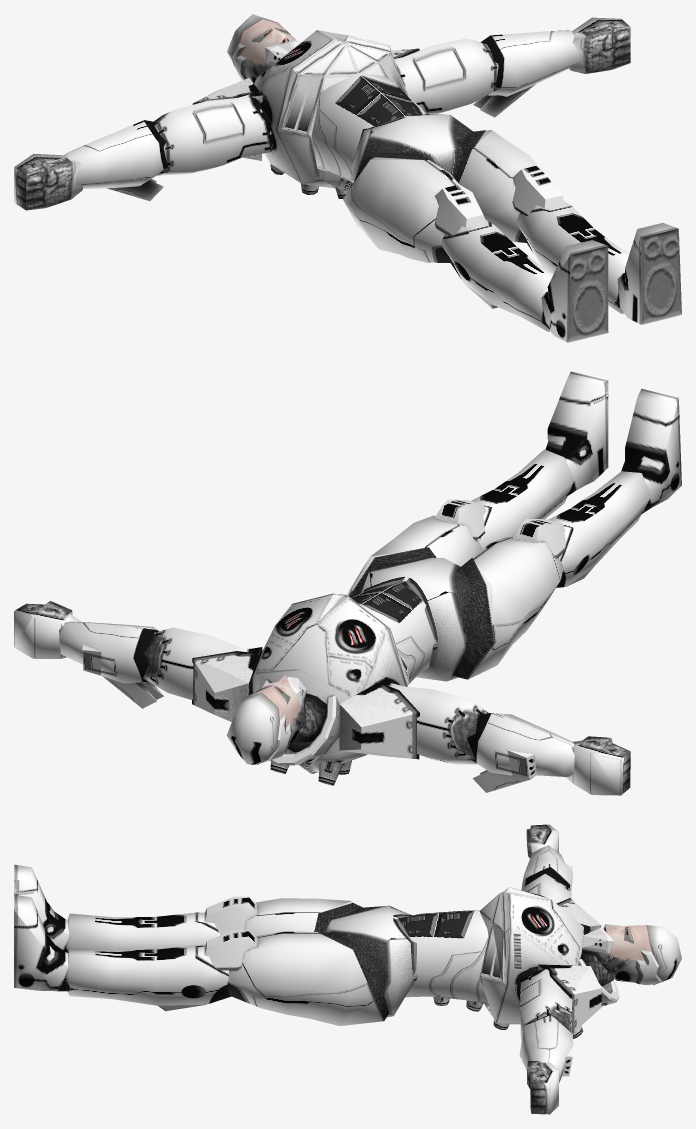
Rendered from typhoon.DAE.
3 renders of one model, top to bottom at view 1: azimuth 30°, elevation 25°; view 2: azimuth 150°, elevation 25°; view 3: azimuth 270°, elevation 25°, orthographic. The views are drawn at different scales.
Visible parts, largest first — view 1: chest_PIVOT, right_thigh_PIVOT, left_biceps02_PIVOT, right_thigh01_PIVOT, right_calf_PIVOT, mid_PIVOT, left_biceps_PIVOT, right_foot_PIVOT, left_wrist02_PIVOT, right_foot01_PIVOT, left_wrist_PIVOT, pelvis_PIVOT (+5 smaller); view 2: chest_PIVOT, right_thigh_PIVOT, left_wrist02_PIVOT, pelvis_PIVOT, right_calf_PIVOT, right_foot01_PIVOT, left_wrist_PIVOT, right_foot_PIVOT, right_thigh01_PIVOT, right_calf01_PIVOT, left_shoulder01_PIVOT, head_PIVOT (+7 smaller); view 3: right_thigh01_PIVOT, chest_PIVOT, right_calf01_PIVOT, mid_PIVOT, right_calf_PIVOT, head_PIVOT, pelvis_PIVOT, right_thigh_PIVOT, right_foot01_PIVOT, left_wrist_PIVOT, left_biceps_PIVOT, left_shoulder_PIVOT (+7 smaller).
Part boxes in pixels (<box>): chest_PIVOT: <box>254,30,408,198</box>; right_thigh_PIVOT: <box>342,151,486,262</box>; left_biceps02_PIVOT: <box>154,93,274,175</box>; right_thigh01_PIVOT: <box>454,130,565,242</box>; right_calf_PIVOT: <box>440,220,553,331</box>; mid_PIVOT: <box>311,73,425,183</box>; left_biceps_PIVOT: <box>394,38,499,114</box>; right_foot_PIVOT: <box>539,240,608,342</box>; left_wrist02_PIVOT: <box>64,120,167,201</box>; right_foot01_PIVOT: <box>614,223,681,324</box>; left_wrist_PIVOT: <box>473,30,580,117</box>; pelvis_PIVOT: <box>352,114,472,180</box>; chest_PIVOT: <box>252,593,408,785</box>; right_thigh_PIVOT: <box>452,518,565,679</box>; left_wrist02_PIVOT: <box>467,713,574,792</box>; pelvis_PIVOT: <box>361,557,473,681</box>; right_calf_PIVOT: <box>548,471,651,587</box>; right_foot01_PIVOT: <box>545,371,608,496</box>; left_wrist_PIVOT: <box>59,621,163,708</box>; right_foot_PIVOT: <box>621,388,681,514</box>; right_thigh01_PIVOT: <box>347,499,486,597</box>; right_calf01_PIVOT: <box>471,449,574,548</box>; left_shoulder01_PIVOT: <box>339,677,419,759</box>; head_PIVOT: <box>226,675,306,764</box>; right_thigh01_PIVOT: <box>204,930,389,1025</box>; chest_PIVOT: <box>479,887,619,1038</box>; right_calf01_PIVOT: <box>66,945,231,1011</box>; mid_PIVOT: <box>398,910,488,1011</box>; right_calf_PIVOT: <box>66,912,220,951</box>; head_PIVOT: <box>582,924,681,985</box>; pelvis_PIVOT: <box>324,905,417,1017</box>; right_thigh_PIVOT: <box>204,896,362,936</box>; right_foot01_PIVOT: <box>14,895,74,991</box>; left_wrist_PIVOT: <box>519,1014,573,1082</box>; left_biceps_PIVOT: <box>520,967,572,1041</box>; left_shoulder_PIVOT: <box>538,964,601,1033</box>.
Bounding box in the file's own units: 7.58 × 8.28 × 1.97.
12 materials, 12 textured.
